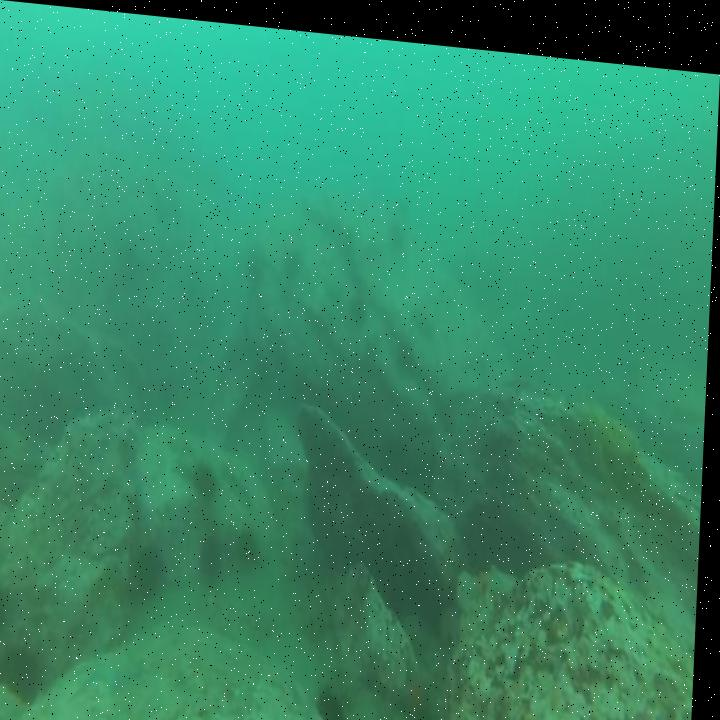echinus: (0, 636, 49, 706), (133, 532, 174, 602), (201, 523, 232, 586), (236, 517, 269, 571), (319, 677, 360, 720), (242, 237, 272, 293), (195, 451, 225, 502), (0, 570, 18, 647), (346, 276, 374, 324), (394, 325, 423, 370), (281, 237, 308, 281)
holothurian: (220, 452, 261, 506), (365, 718, 420, 720)
starfish: (394, 648, 450, 720)
